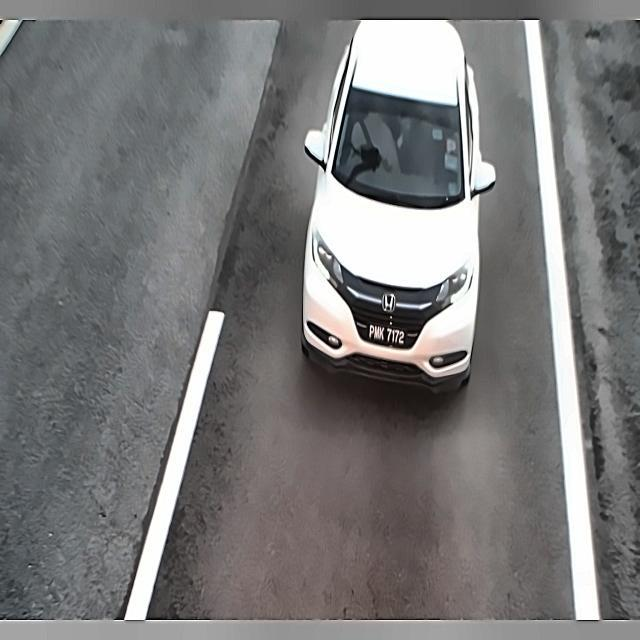car: (360, 304, 416, 362)
